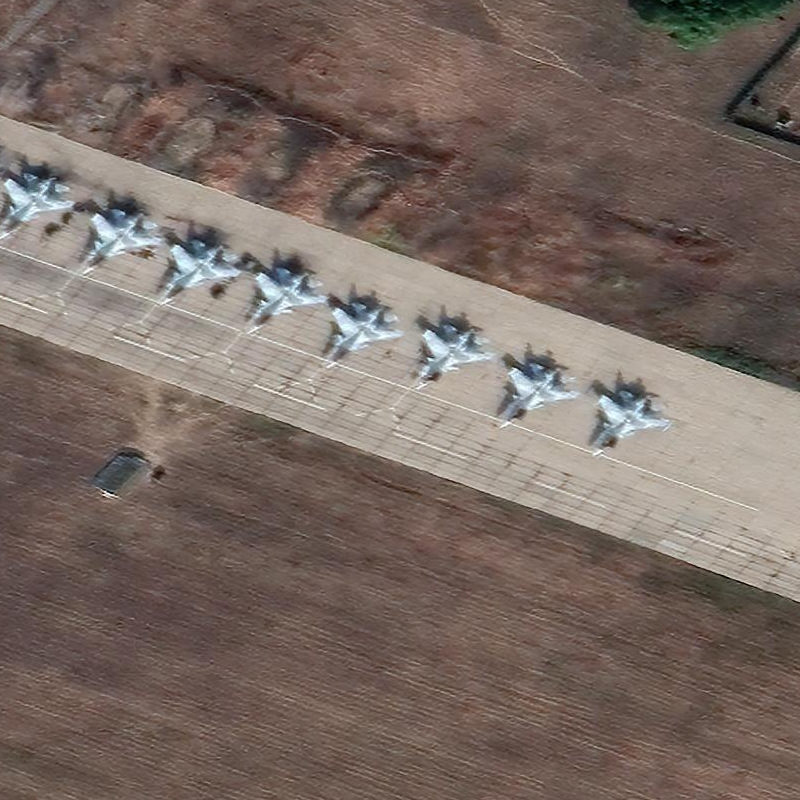A19: (495, 360, 584, 434), (243, 265, 330, 338), (589, 388, 677, 460), (156, 237, 243, 309), (323, 299, 408, 372), (79, 205, 164, 278), (412, 321, 498, 391), (1, 169, 76, 246)
